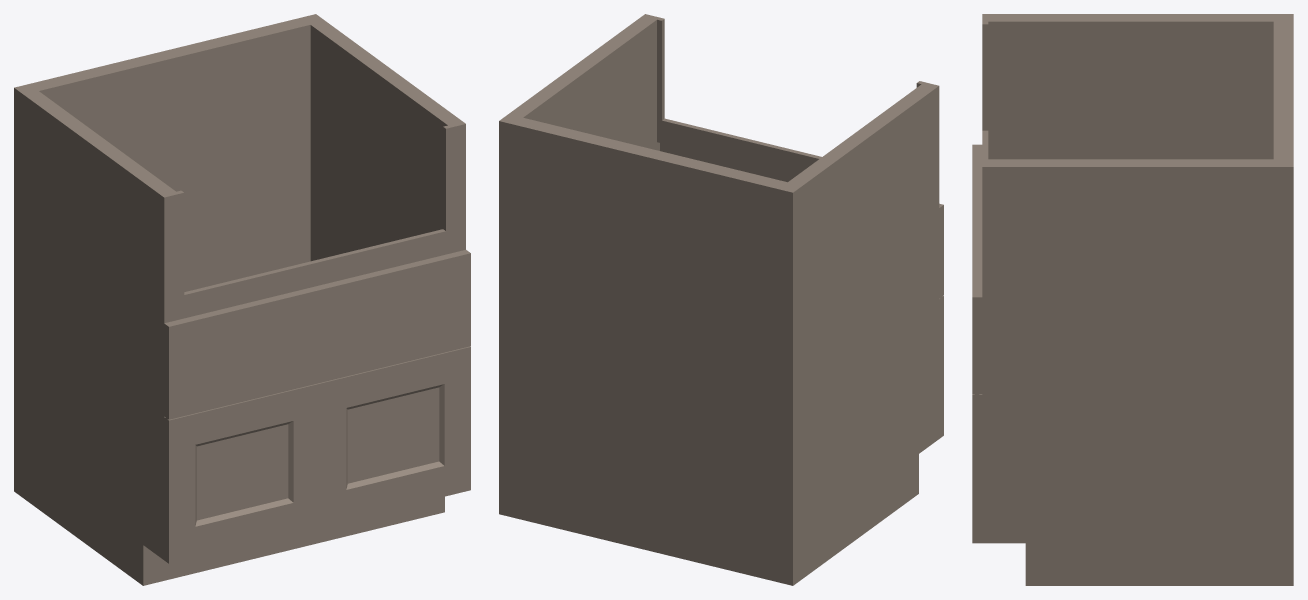
File: Base-Cabinet-Farm-Sink-24-Deep_std_001_W27in.glb
3 renders of one model, left to right at view 1: azimuth 30°, elevation 25°; view 2: azimuth 150°, elevation 25°; view 3: azimuth 270°, elevation 25°, orthographic. The views are drawn at different scales.
Visible parts, largest first — view 1: Base-Cabinet-Farm-Sink-24-Deep.std.001_W27in; view 2: Base-Cabinet-Farm-Sink-24-Deep.std.001_W27in; view 3: Base-Cabinet-Farm-Sink-24-Deep.std.001_W27in.
Boxes of the visible parts, x1,y1,x2,y2 form: Base-Cabinet-Farm-Sink-24-Deep.std.001_W27in: [14, 14, 470, 585]; Base-Cabinet-Farm-Sink-24-Deep.std.001_W27in: [499, 14, 943, 585]; Base-Cabinet-Farm-Sink-24-Deep.std.001_W27in: [972, 14, 1293, 585].
Bounding box in the file's own units: 0.6858 × 0.8763 × 0.6096.
